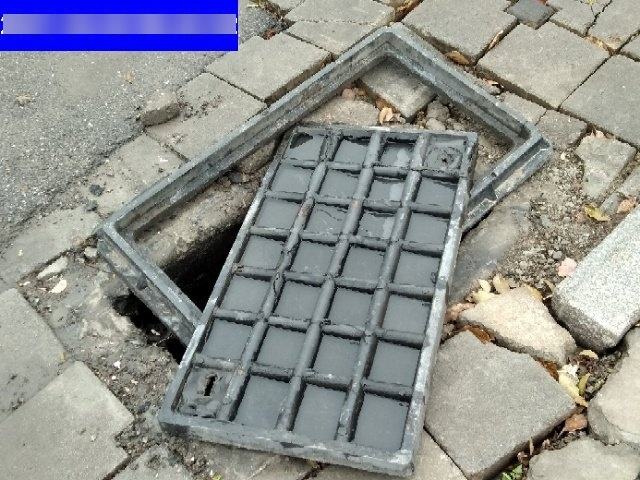uncovered: (93, 25, 556, 474)
